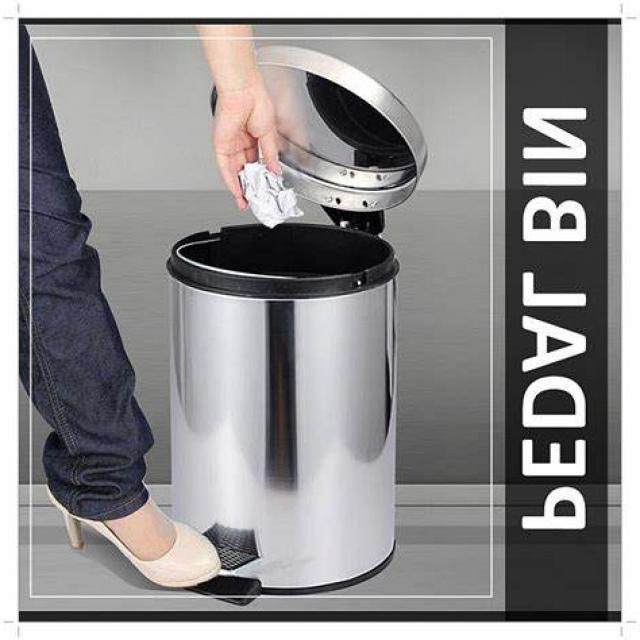garbage container: (154, 44, 436, 584)
